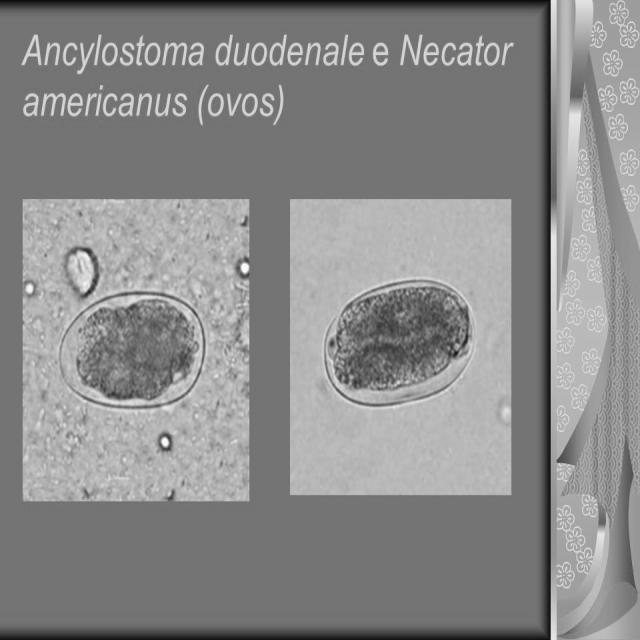Ancylostoma Spp: (317, 276, 485, 414), (51, 285, 206, 417)
